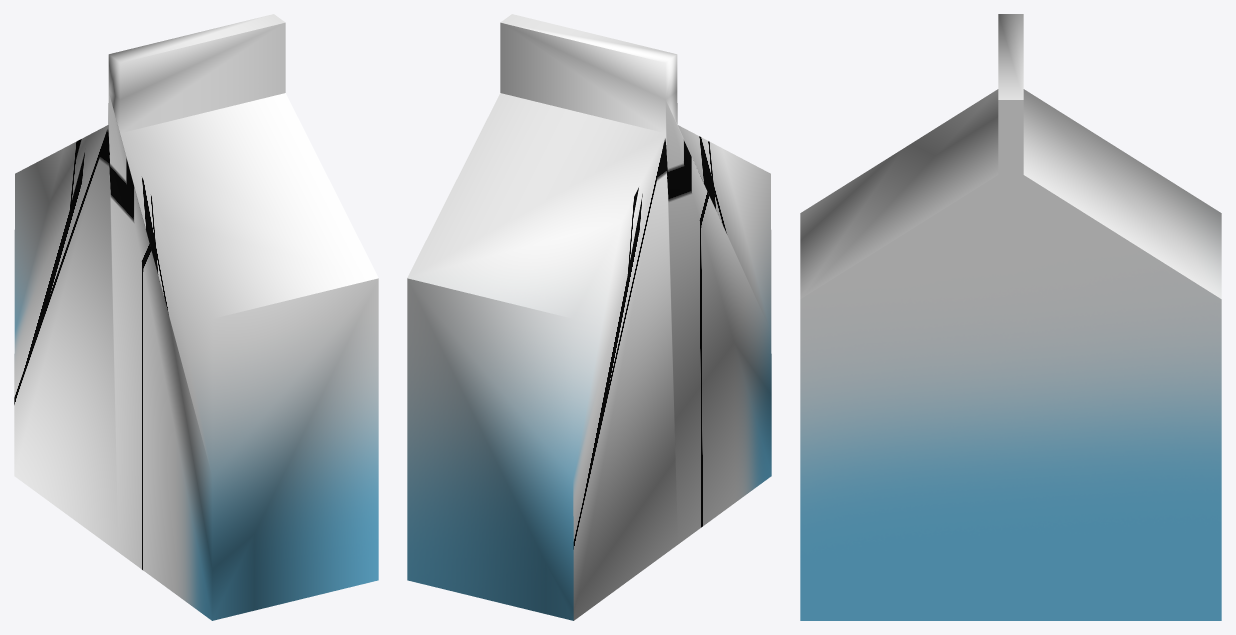
The model's file is milk01.fbx.
3 views of the same model, side by side, from view 1: azimuth 30°, elevation 25°; view 2: azimuth 150°, elevation 25°; view 3: azimuth 270°, elevation 25° (orthographic). The views are drawn at different scales.
Visible parts, largest first — view 1: Milk; view 2: Milk; view 3: Milk.
Part boxes in pixels (x1=…): Milk: x1=14, y1=14, x2=378, y2=620; Milk: x1=407, y1=14, x2=771, y2=620; Milk: x1=800, y1=14, x2=1221, y2=620.
Size of the model in its own units: 7.88 by 22.12 by 16.22.
